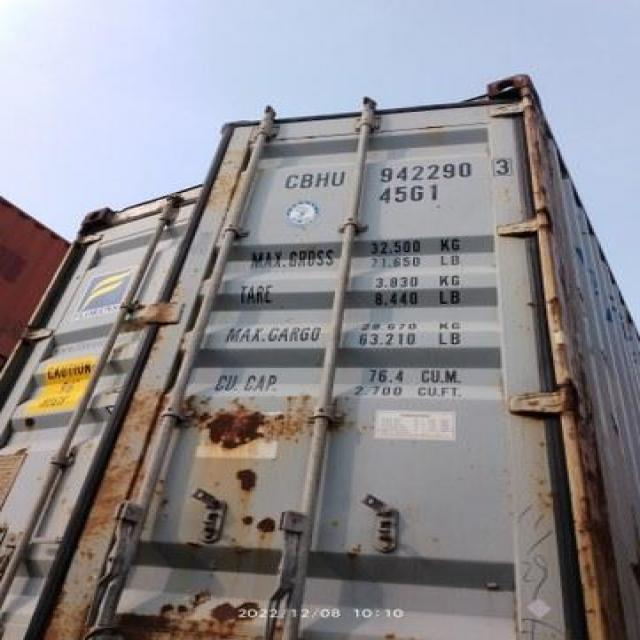ISO: (380, 184, 442, 204)
container_number: (272, 152, 518, 190)
